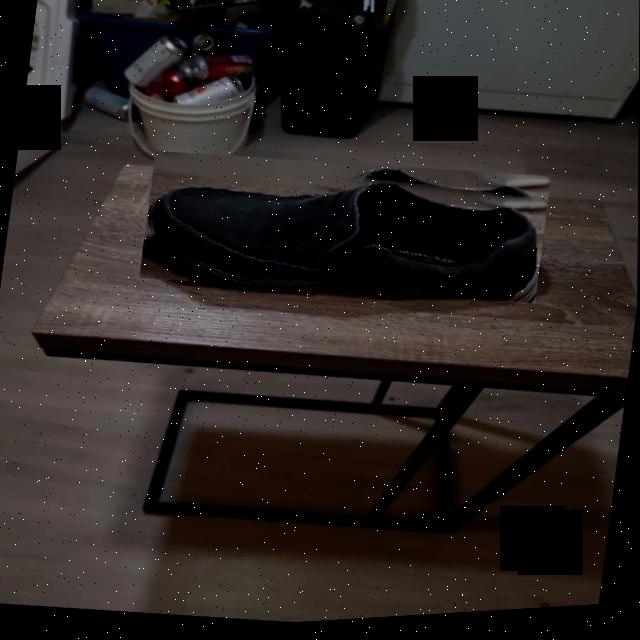shoe: (139, 134, 552, 328)
